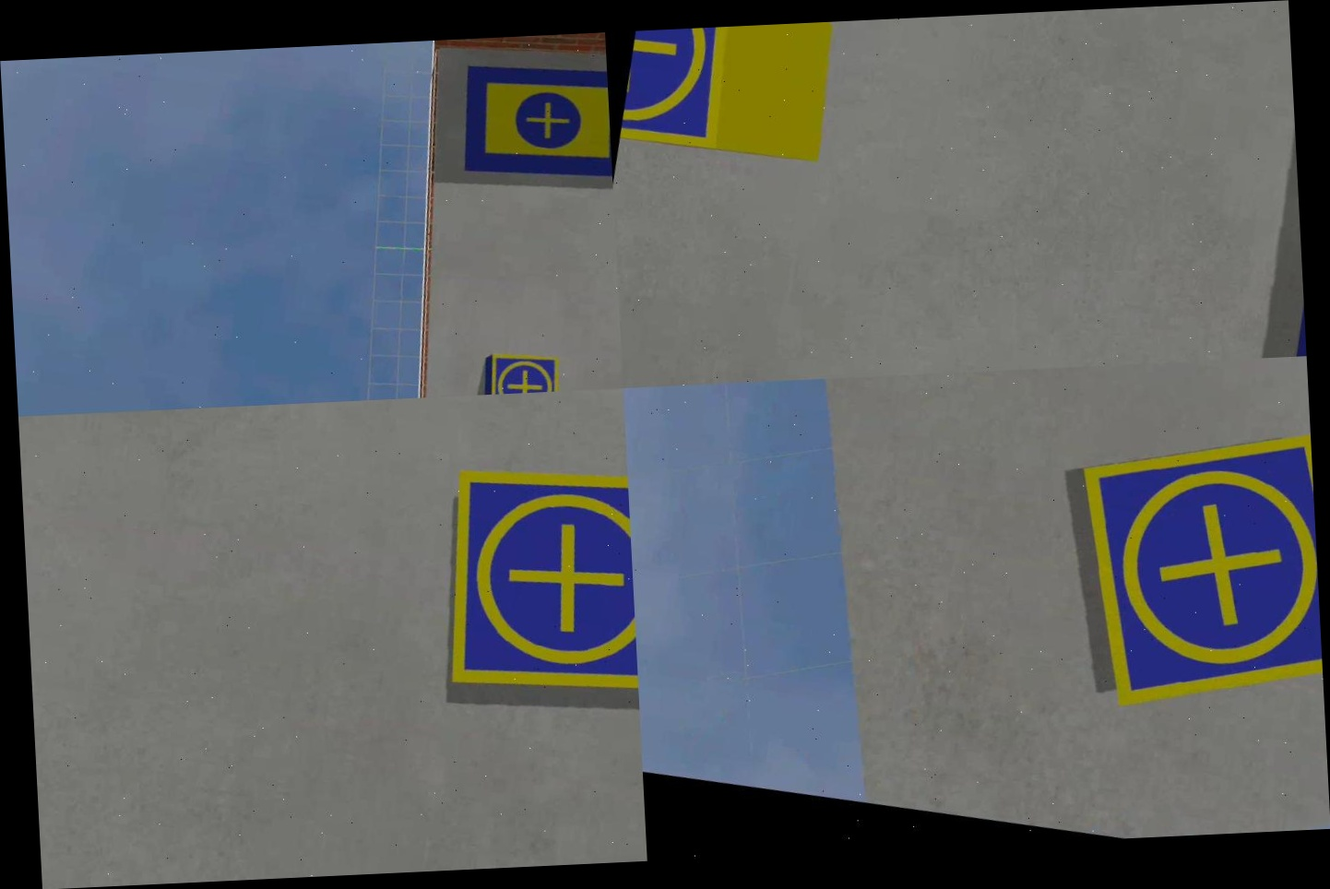large_base: (445, 41, 613, 205)
small_base: (1032, 394, 1325, 751), (414, 441, 640, 728), (614, 26, 757, 160), (475, 341, 571, 395)
